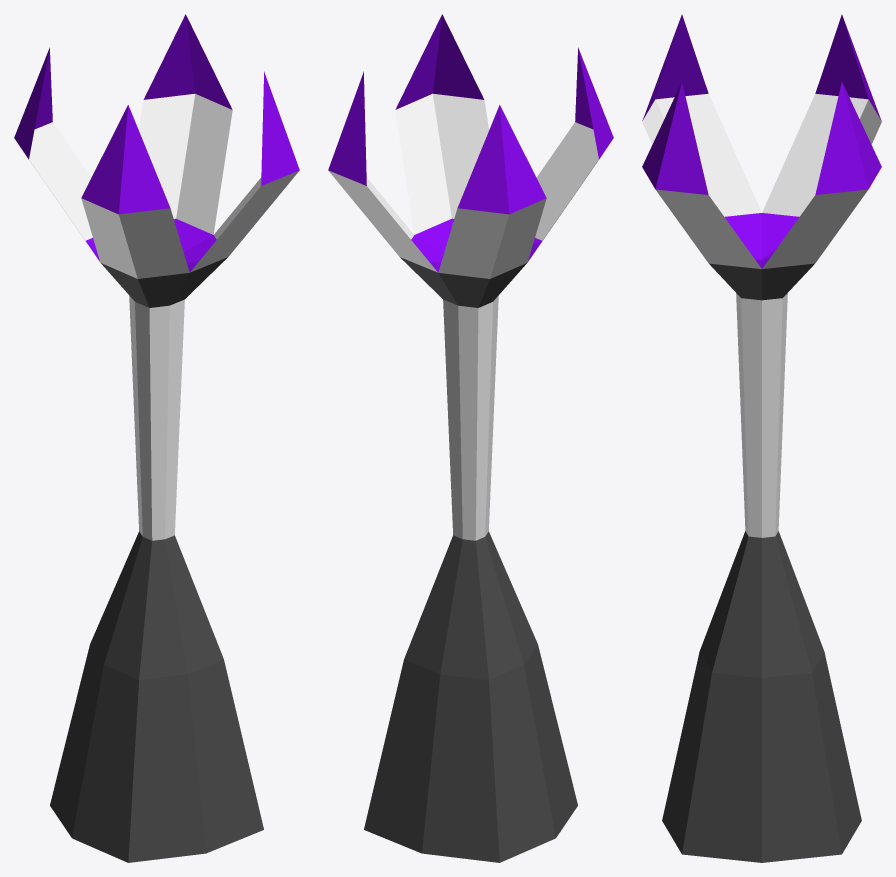
File: Lamp.dae
The picture shows the model from 3 angles, left to right: view 1: azimuth 30°, elevation 25°; view 2: azimuth 150°, elevation 25°; view 3: azimuth 270°, elevation 25°; orthographic projection.
Visible parts, largest first — view 1: Cube.001; view 2: Cube.001; view 3: Cube.001.
Boxes of the visible parts, x1,y1,x2,y2 form: Cube.001: (14,14,299,862); Cube.001: (328,14,613,862); Cube.001: (642,14,881,862).
Bounding box in the file's own units: 1.12 × 1.12 × 4.
